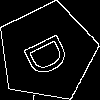D: (22, 27, 79, 80)
